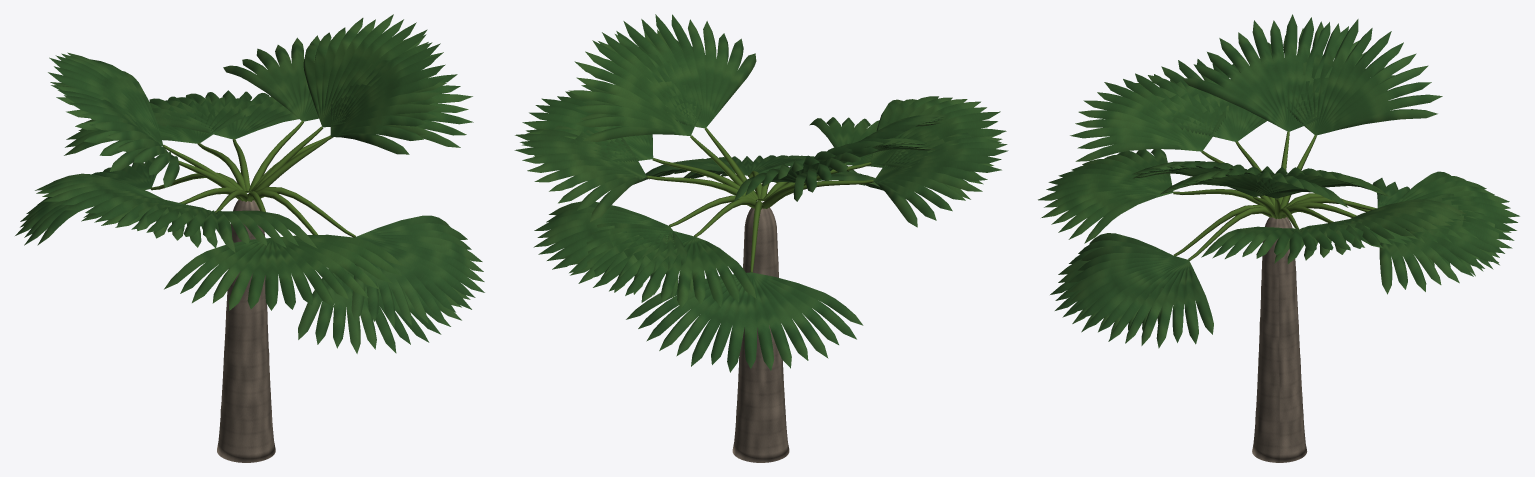
The model's file is palmfan.glb.
3 views of the same model, side by side, from view 1: azimuth 30°, elevation 25°; view 2: azimuth 150°, elevation 25°; view 3: azimuth 270°, elevation 25° (orthographic). The views are drawn at different scales.
Visible parts, largest first — view 1: Foliage, Bark, Stems; view 2: Foliage, Bark, Stems; view 3: Foliage, Bark, Stems.
Part boxes in pixels (x1=…): Foliage: x1=15, y1=14, x2=484, y2=353; Bark: x1=217, y1=199, x2=275, y2=462; Stems: x1=150, y1=120, x2=355, y2=237; Foliage: x1=514, y1=14, x2=1008, y2=372; Bark: x1=732, y1=202, x2=789, y2=462; Stems: x1=646, y1=128, x2=873, y2=272; Foliage: x1=1038, y1=14, x2=1519, y2=348; Bark: x1=1252, y1=217, x2=1307, y2=462; Stems: x1=1173, y1=131, x2=1376, y2=260.
Size of the model in its own units: 2.48 by 2.09 by 2.54.
Materials: 3 (2 with a texture image).
